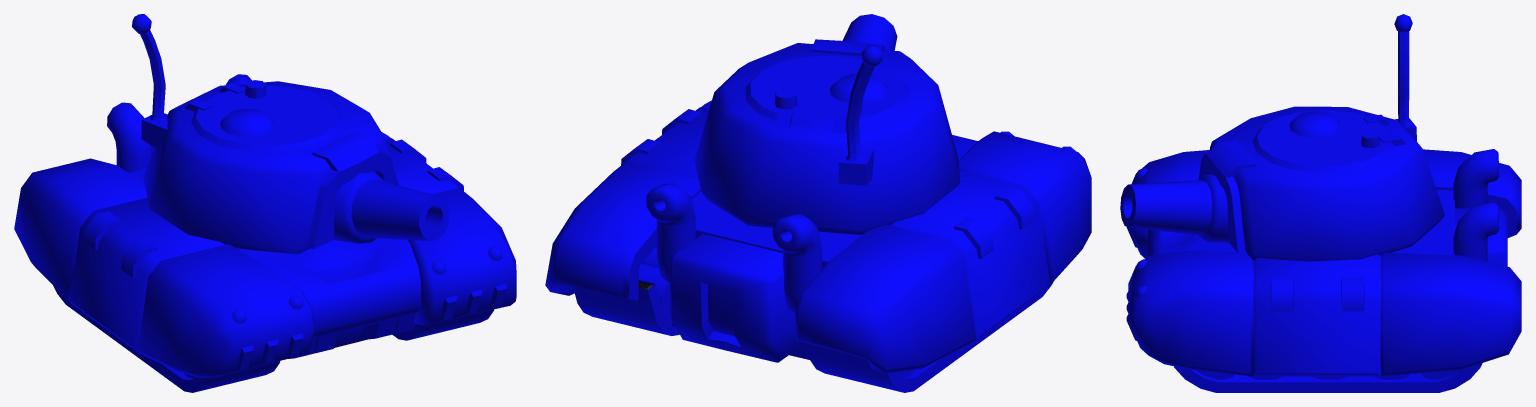
Rendered from porktankanim.FBX.
The picture shows the model from 3 angles, left to right: view 1: azimuth 30°, elevation 25°; view 2: azimuth 150°, elevation 25°; view 3: azimuth 270°, elevation 25°; orthographic projection. The views are drawn at different scales.
Visible parts, largest first — view 1: Object001, Object002; view 2: Object001, Object002; view 3: Object001, Object002.
Part boxes in pixels (x1=…): Object001: x1=14, y1=14, x2=516, y2=377; Object002: x1=53, y1=285, x2=493, y2=392; Object001: x1=545, y1=14, x2=1091, y2=373; Object002: x1=575, y1=246, x2=1053, y2=392; Object001: x1=1120, y1=14, x2=1521, y2=376; Object002: x1=1174, y1=363, x2=1482, y2=392.
Size of the model in its own units: 172 by 138 by 184.
